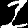I: (0, 0, 28, 28)
